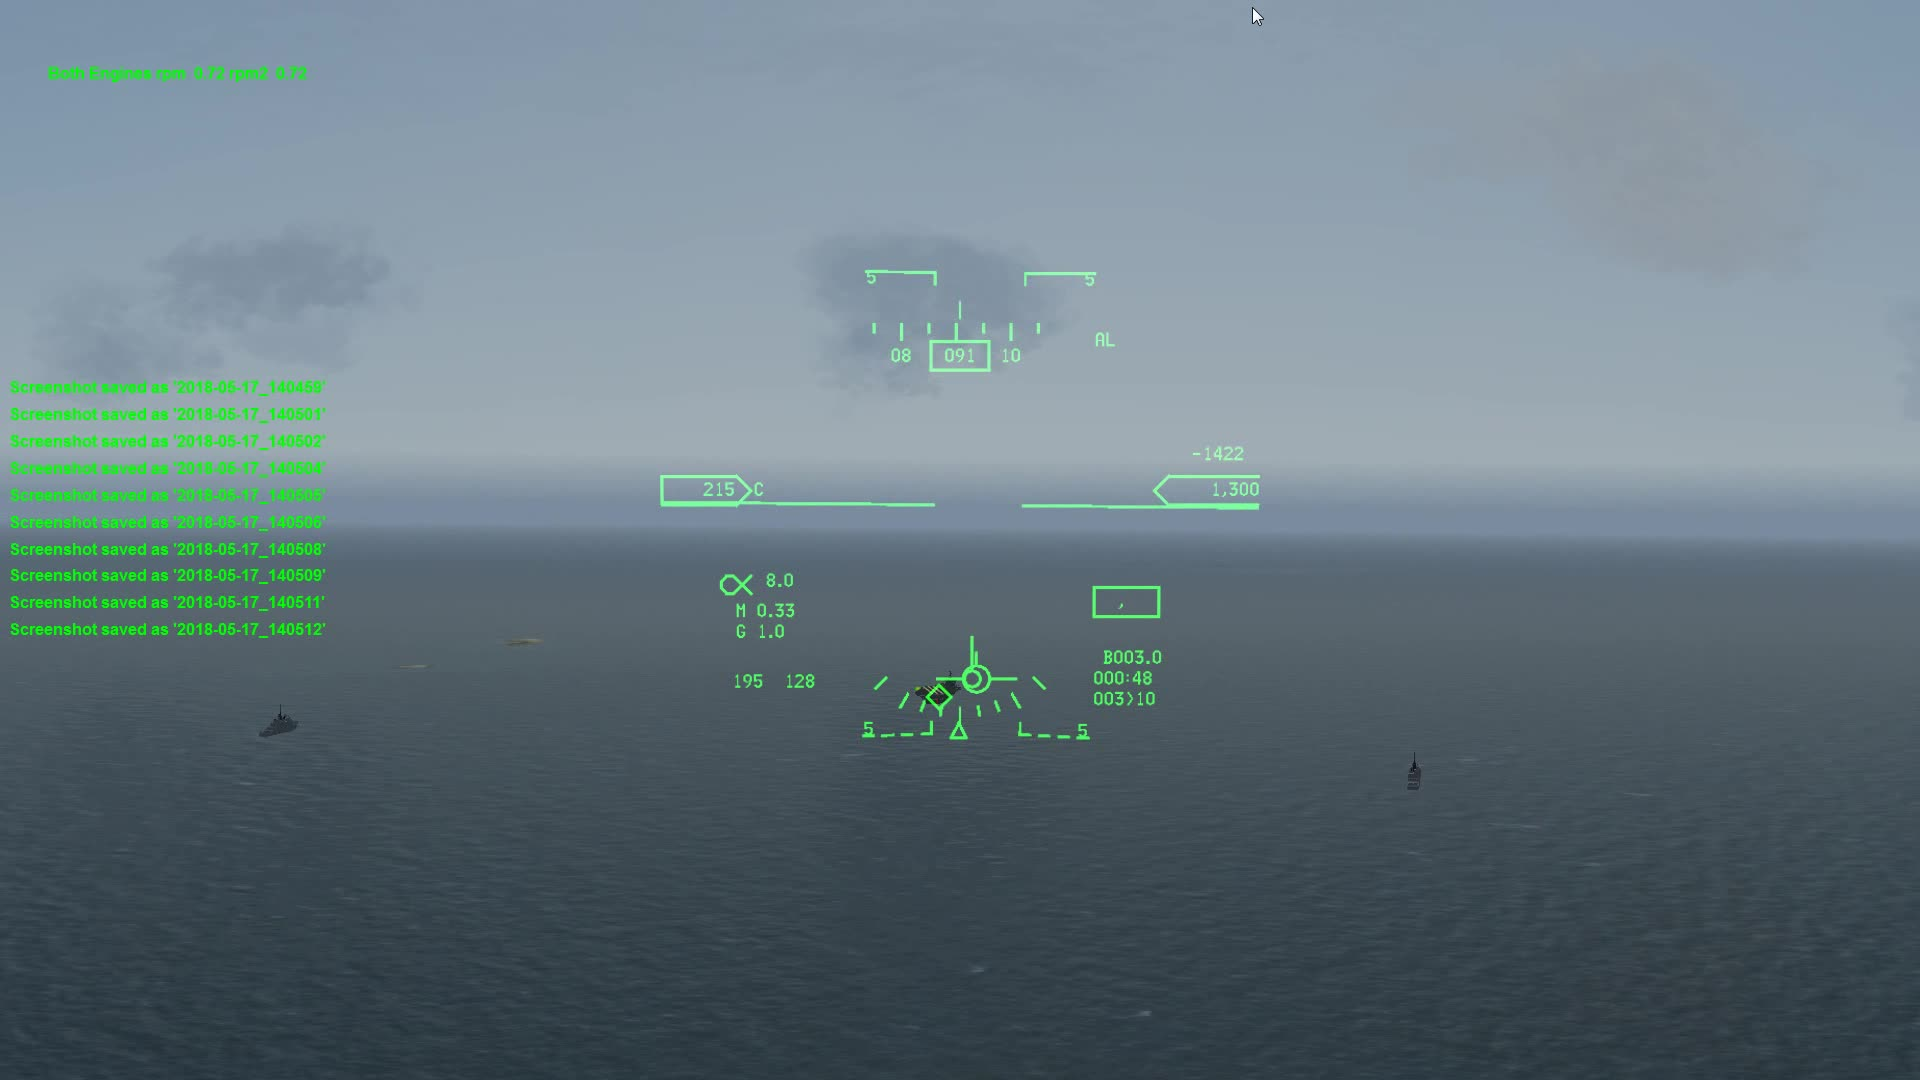speed vector: (922, 636, 1018, 702)
